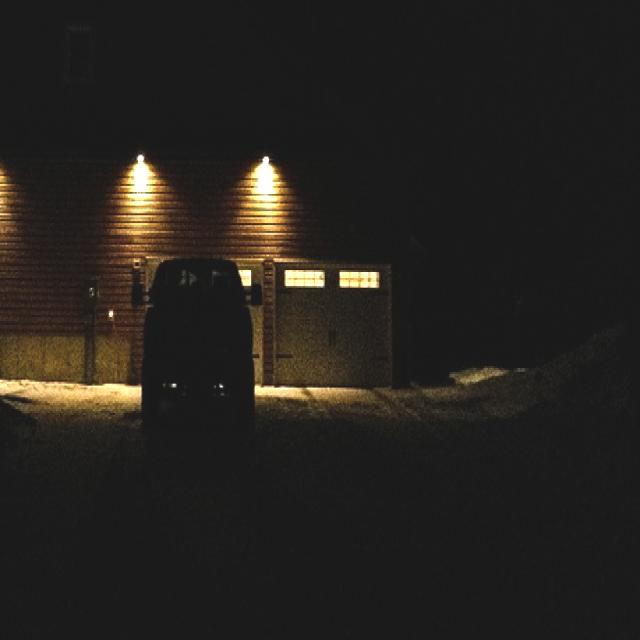Car: (137, 259, 258, 446)
